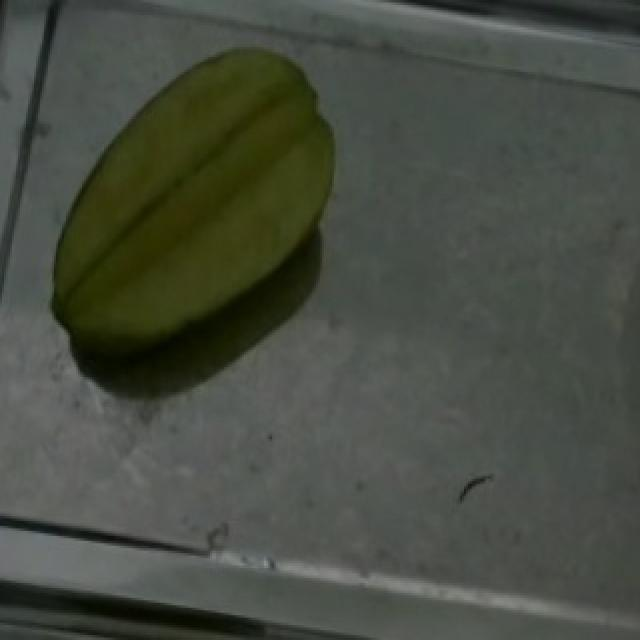fruit: (30, 12, 374, 374)
